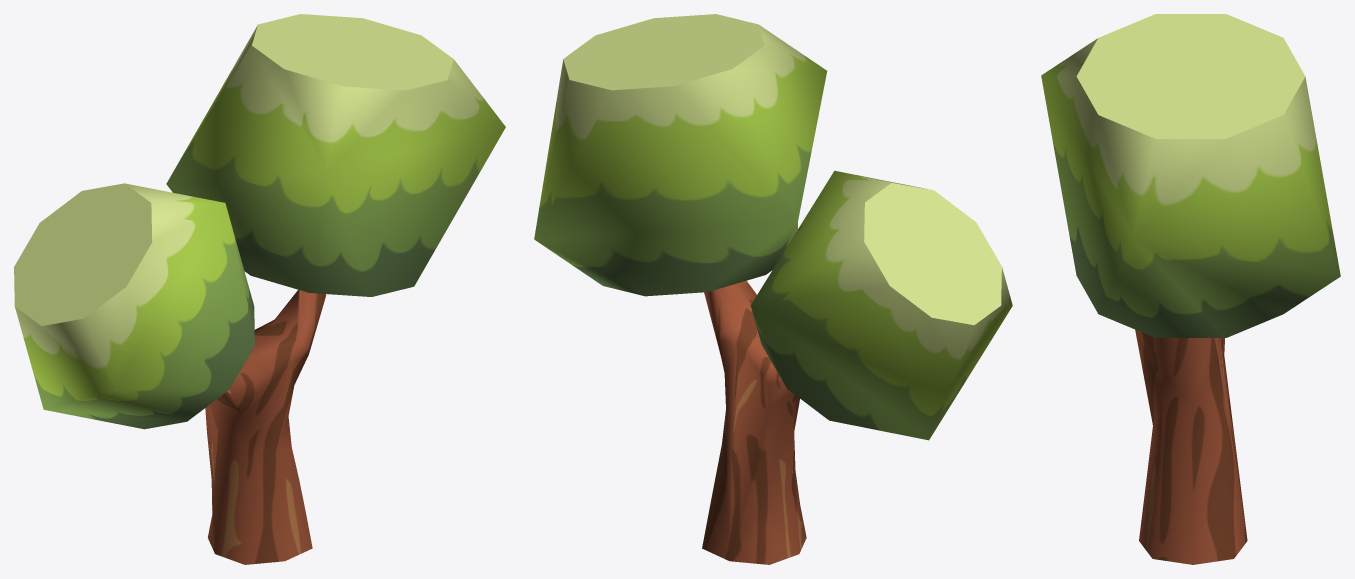
File: arvore02low.FBX
The picture shows the model from 3 angles, left to right: view 1: azimuth 30°, elevation 25°; view 2: azimuth 150°, elevation 25°; view 3: azimuth 270°, elevation 25°; orthographic projection. The views are drawn at different scales.
Parts seen in each view (by area): view 1: folhasArvore003, folhasArvore004, troncoArvore02; view 2: folhasArvore003, folhasArvore004, troncoArvore02; view 3: folhasArvore003, troncoArvore02.
Part boxes in pixels (left/top/right/bottom): folhasArvore003: left=166, top=14, right=505, bottom=296; folhasArvore004: left=14, top=183, right=254, bottom=429; troncoArvore02: left=205, top=289, right=326, bottom=564; folhasArvore003: left=534, top=14, right=827, bottom=296; folhasArvore004: left=750, top=170, right=1012, bottom=440; troncoArvore02: left=702, top=280, right=806, bottom=564; folhasArvore003: left=1041, top=14, right=1340, bottom=337; troncoArvore02: left=1135, top=329, right=1247, bottom=564.
Bounding box in the file's own units: 219 × 224 × 115.
